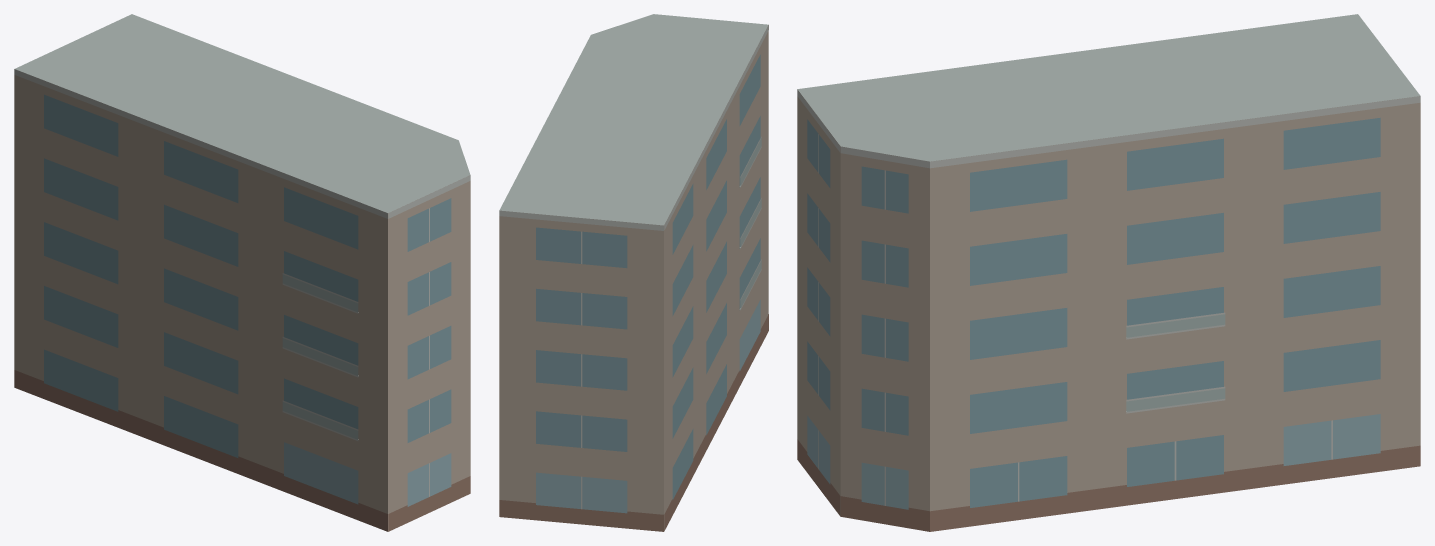
The model's file is survey-upis-32612261.glb.
3 renders of one model, left to right at view 1: azimuth 30°, elevation 25°; view 2: azimuth 150°, elevation 25°; view 3: azimuth 270°, elevation 25°, orthographic. The views are drawn at different scales.
Parts seen in each view (by area): view 1: survey-upis-32612261.tmp; view 2: survey-upis-32612261.tmp; view 3: survey-upis-32612261.tmp.
Part boxes in pixels (box(x1,y1,x2,y2)): survey-upis-32612261.tmp: box(14, 14, 470, 531); survey-upis-32612261.tmp: box(499, 14, 768, 531); survey-upis-32612261.tmp: box(797, 14, 1420, 531).
Size of the model in its own units: 11.46 by 13.4 by 20.45.
